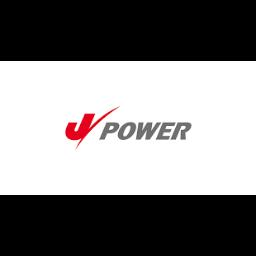e: (156, 120, 176, 142)
j: (64, 109, 96, 143)
o: (118, 118, 138, 142)
p: (98, 120, 120, 148)
r: (170, 120, 192, 142)
w: (136, 120, 162, 142)
